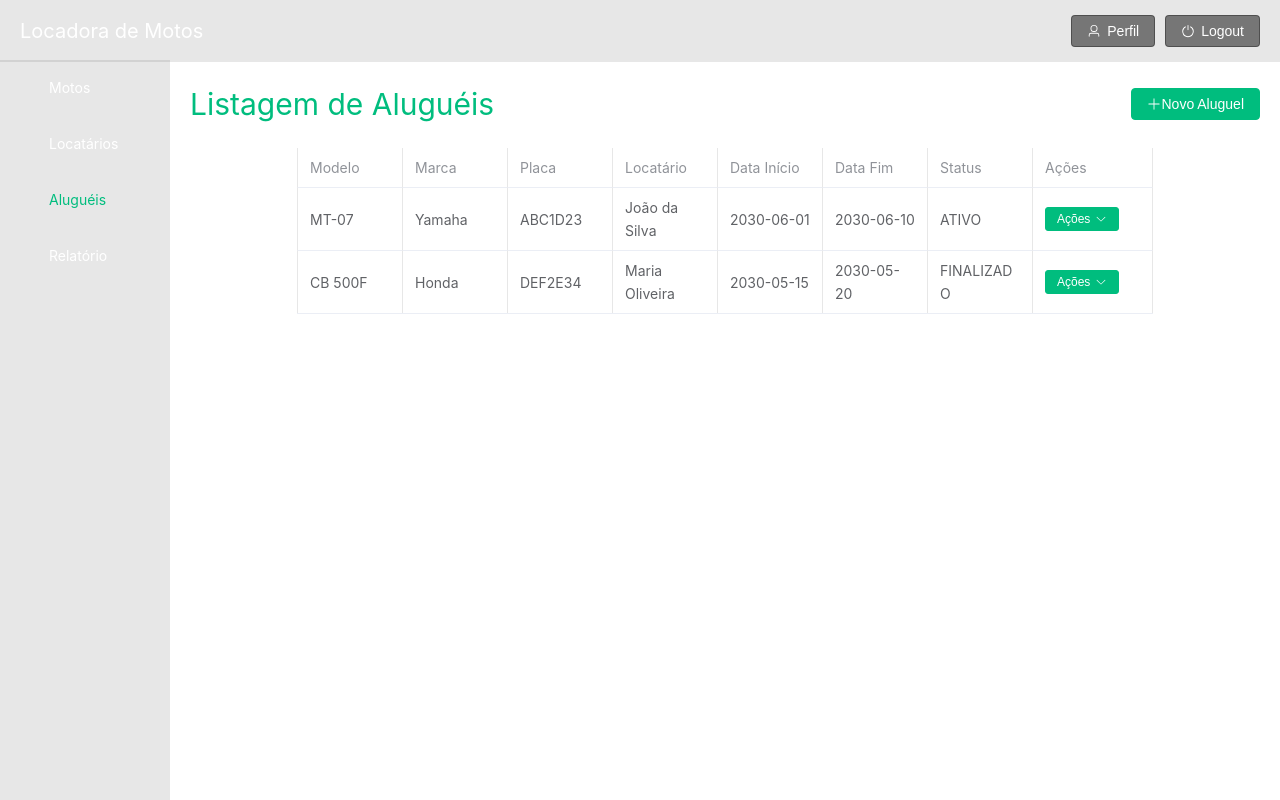
Tela de Listagem de Aluguéis › deve abrir o modal de edição ao clicar em Editar
This screenshot has width=1280, height=800.
Click the button "Ações" in the row of "MT-07".
click(1082, 219)  # box [1045,207,1119,231]
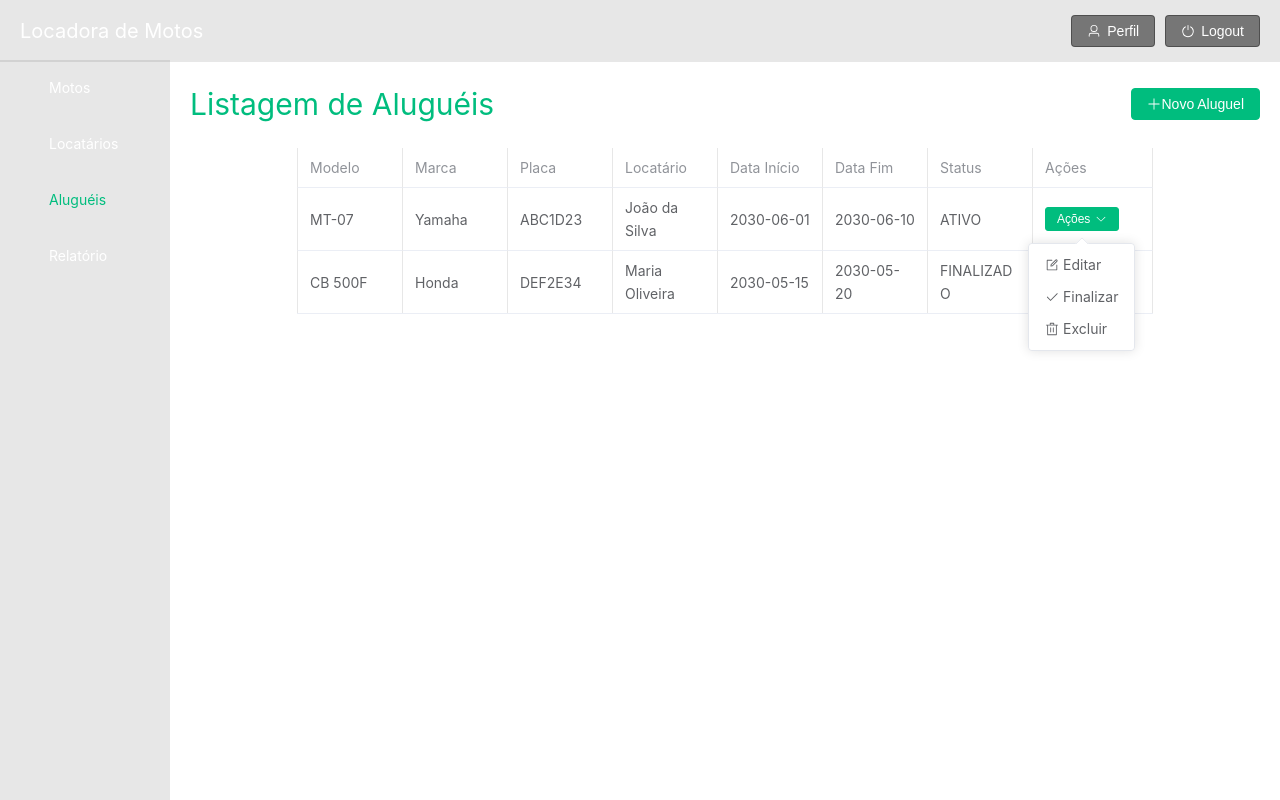
Click the menu item "Editar".
click(1073, 265)  # box [1045,256,1101,273]
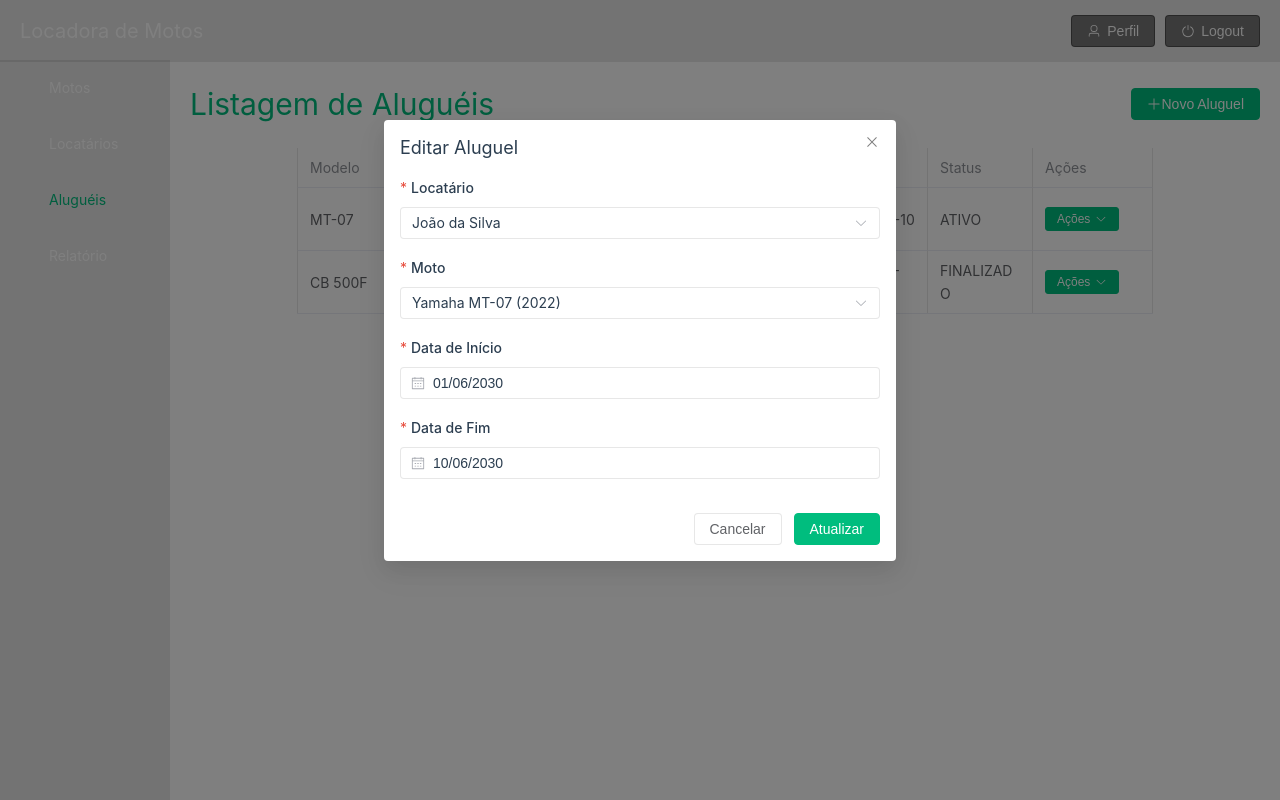
Check: the heading "Editar Aluguel" is shown, box [400,137,518,158]
Check: the dropdown with placeholder "Escolha uma data" is shown, box [433,368,869,398]
